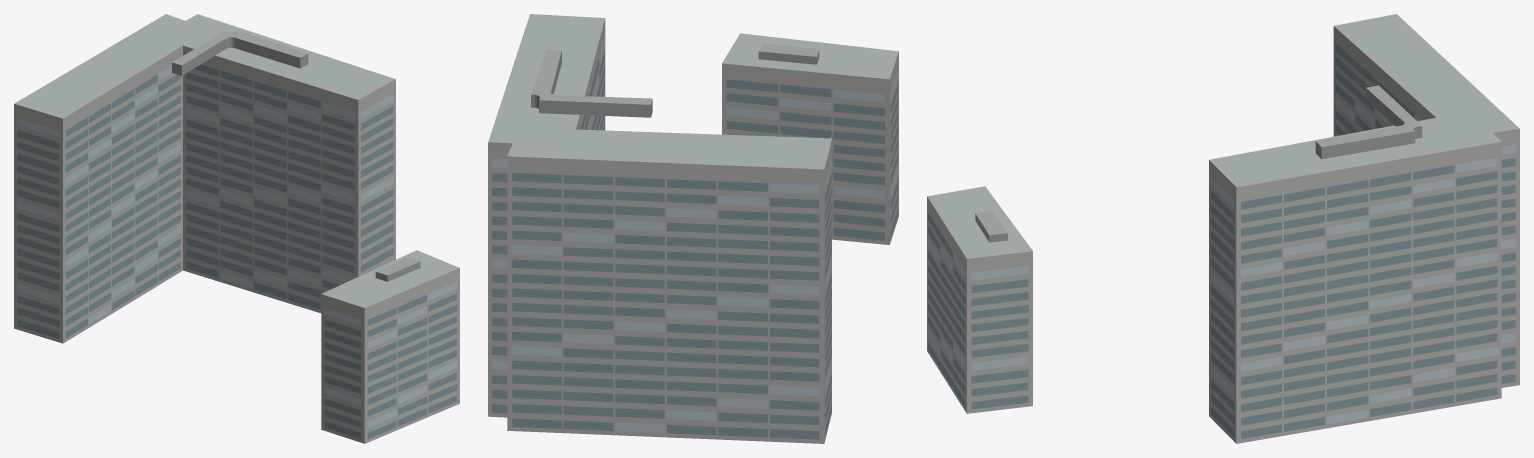
Rendered from apt-a13987503.glb.
3 renders of one model, left to right at view 1: azimuth 30°, elevation 25°; view 2: azimuth 150°, elevation 25°; view 3: azimuth 270°, elevation 25°, orthographic. The views are drawn at different scales.
Visible parts, largest first — view 1: apt-a13987503; view 2: apt-a13987503; view 3: apt-a13987503.
Part boxes in pixels (x1,y1,x2,y2): apt-a13987503: (14, 14, 459, 443); apt-a13987503: (488, 14, 898, 443); apt-a13987503: (927, 14, 1519, 443).
Bounding box in the file's own units: 73.34 × 53 × 106.
